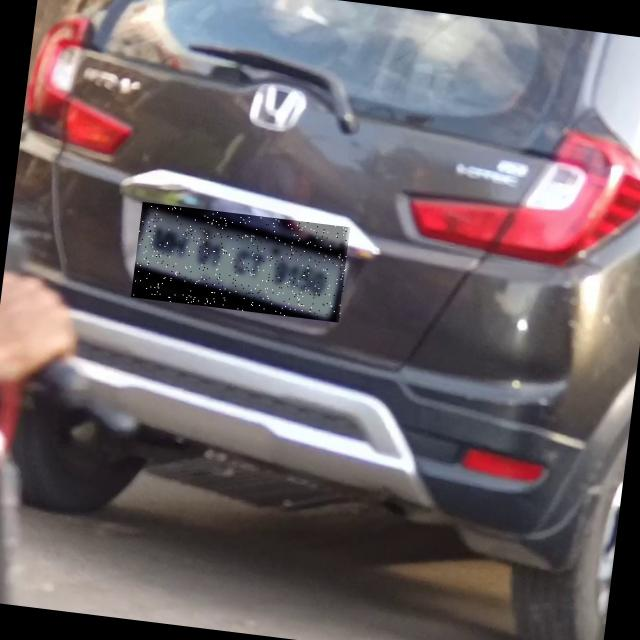Plate: (132, 203, 352, 324)
